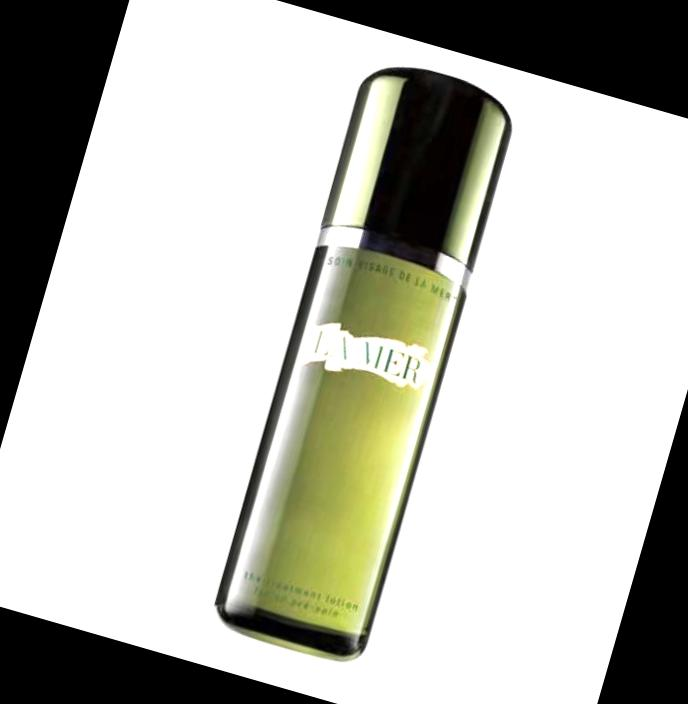cosmetic: (207, 61, 530, 668)
